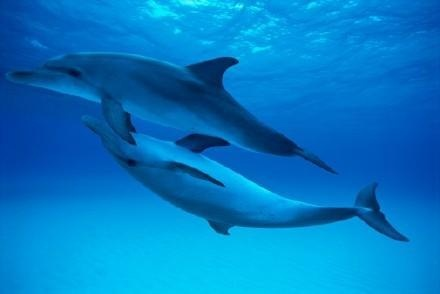fish: (81, 113, 410, 240), (7, 52, 340, 174)
